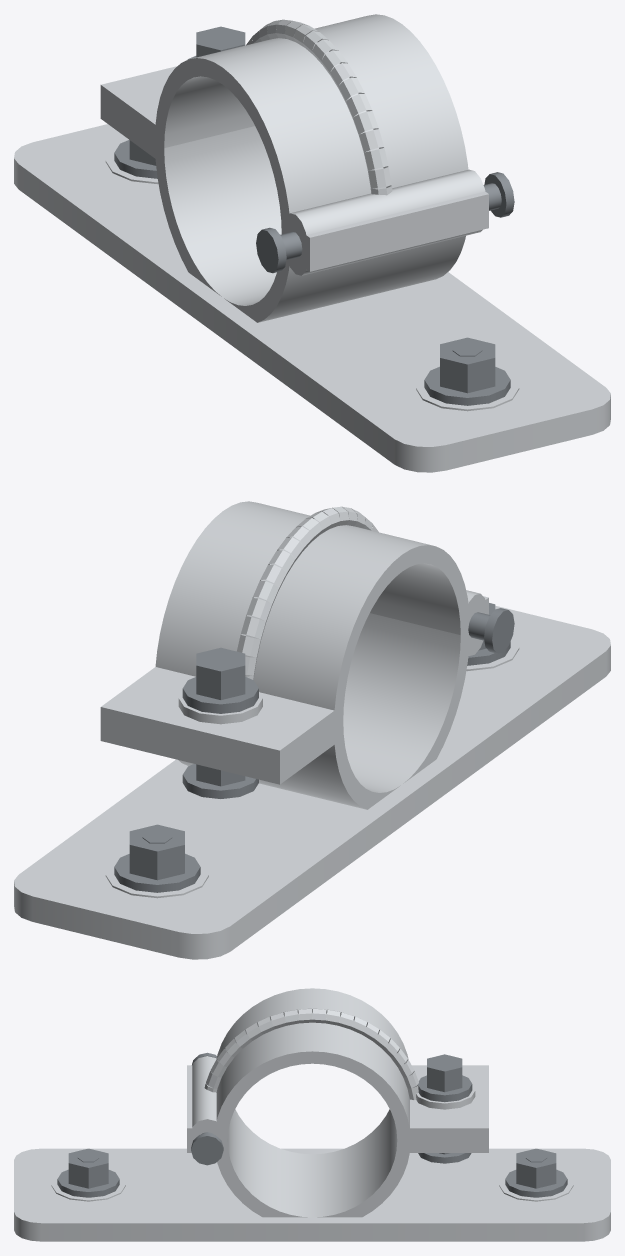
Rendered from SEC_Conduit_Wall_Clamp.fbx.
The picture shows the model from 3 angles, top to bottom: view 1: azimuth 30°, elevation 25°; view 2: azimuth 150°, elevation 25°; view 3: azimuth 270°, elevation 25°; orthographic projection. The views are drawn at different scales.
Parts seen in each view (by area): view 1: Backplate, Clamp_Upper, Clamp_Lower, Screws; view 2: Backplate, Clamp_Upper, Clamp_Lower, Screws; view 3: Backplate, Clamp_Upper, Clamp_Lower, Screws.
Part boxes in pixels (x1=…): Backplate: x1=14, y1=124, x2=610, y2=472; Clamp_Upper: x1=100, y1=14, x2=488, y2=255; Clamp_Lower: x1=100, y1=102, x2=488, y2=322; Screws: x1=114, y1=26, x2=514, y2=405; Backplate: x1=14, y1=605, x2=610, y2=959; Clamp_Upper: x1=100, y1=501, x2=488, y2=767; Clamp_Lower: x1=100, y1=611, x2=483, y2=809; Screws: x1=114, y1=603, x2=514, y2=892; Backplate: x1=14, y1=1148, x2=610, y2=1241; Clamp_Upper: x1=187, y1=988, x2=488, y2=1140; Clamp_Lower: x1=187, y1=1109, x2=488, y2=1217; Screws: x1=57, y1=1052, x2=567, y2=1197.
Size of the model in its own units: 2.9 by 3.18 by 8.8.
Materials: 1 (1 with a texture image).
